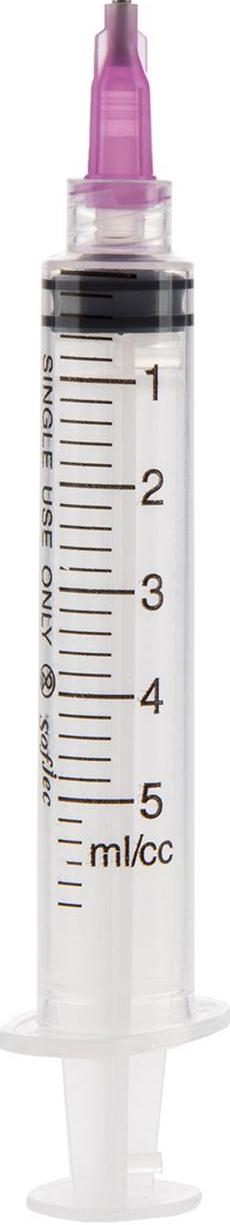syringes: (0, 1, 230, 1225)
